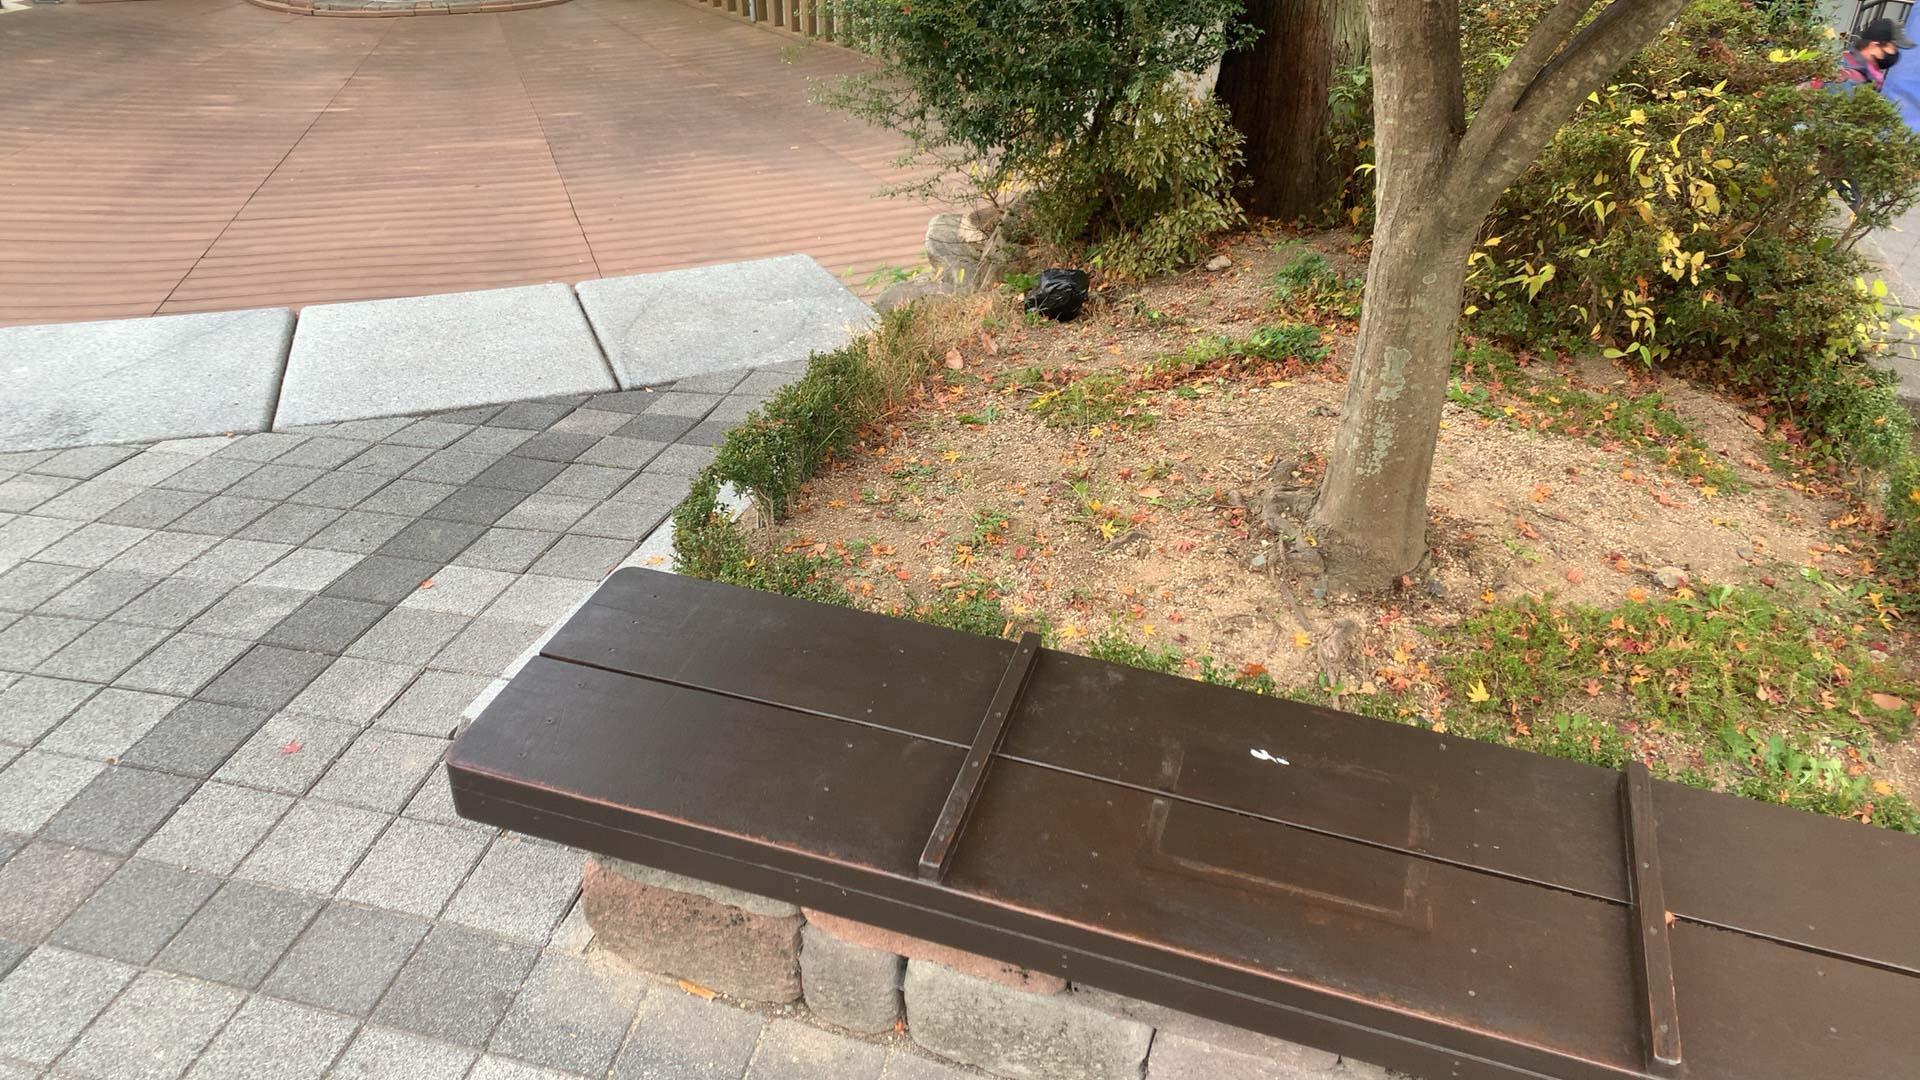black_bag: (1013, 260, 1092, 324)
